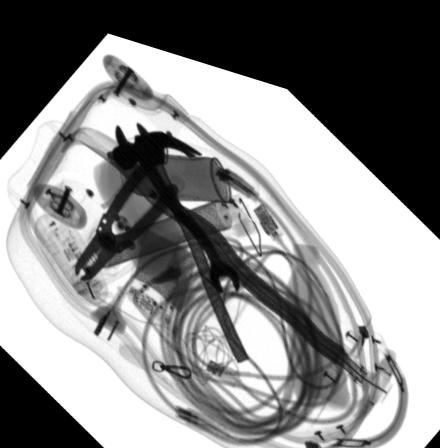Hammer: (111, 118, 249, 348)
Pliers: (72, 140, 179, 274)
Powerbank: (122, 218, 197, 317)
Wrench: (113, 113, 240, 279)
